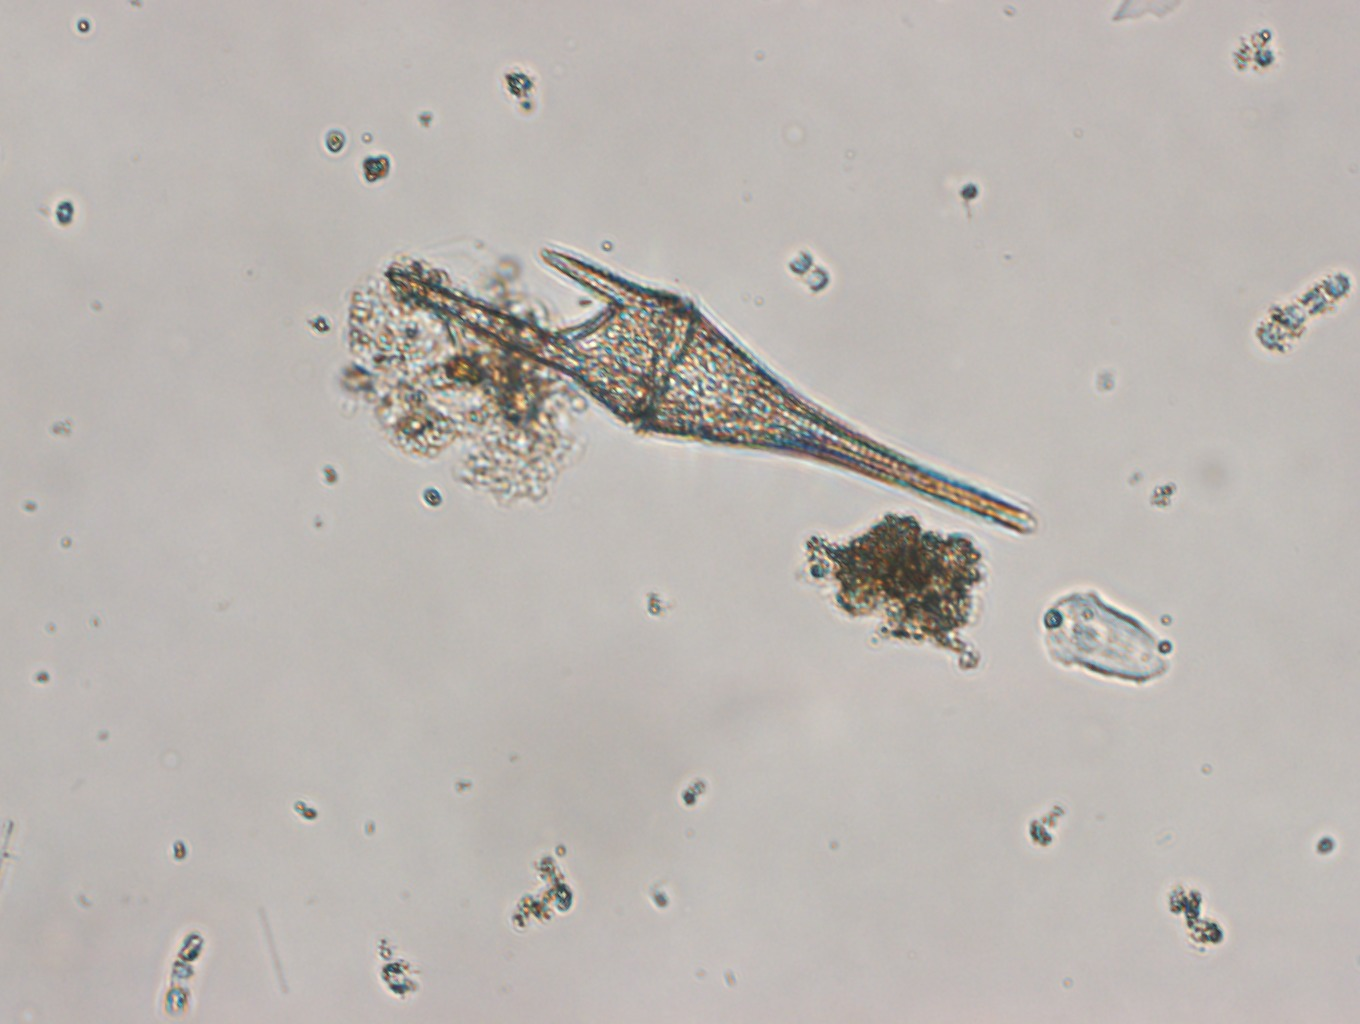ceratium furca: (386, 232, 1039, 547)
